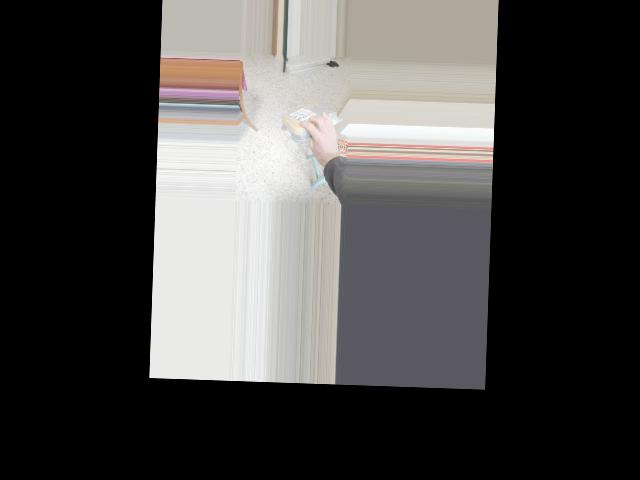cheese: (281, 105, 342, 137)
